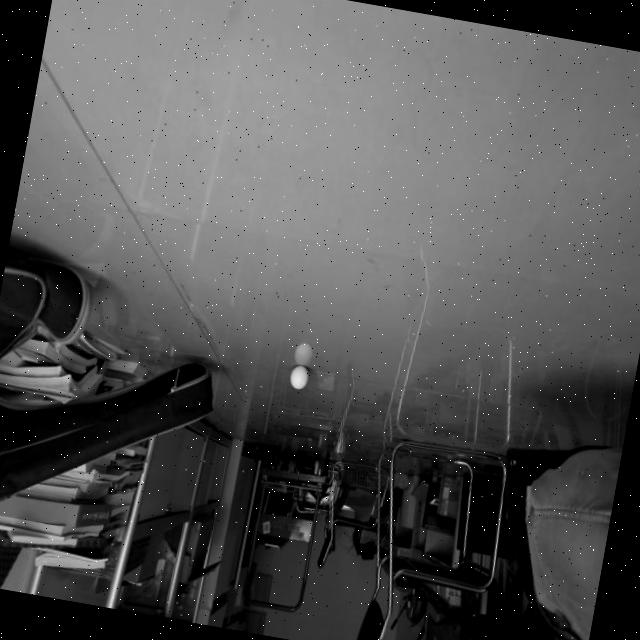ping-pong-ball: (288, 364, 310, 391)
